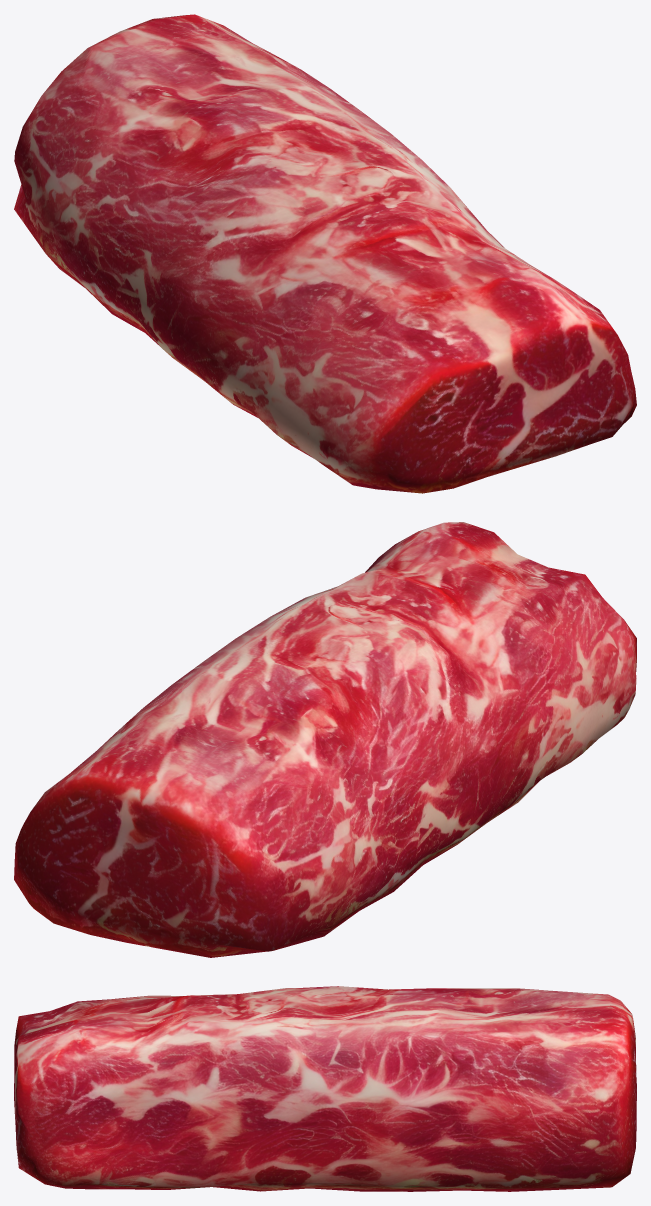
The model's file is vacio.glb.
3 views of the same model, one above another, from view 1: azimuth 30°, elevation 25°; view 2: azimuth 150°, elevation 25°; view 3: azimuth 270°, elevation 25° (orthographic). The views are drawn at different scales.
Parts seen in each view (by area): view 1: Meat_piece; view 2: Meat_piece; view 3: Meat_piece.
Part boxes in pixels (<box>): Meat_piece: <box>14,14,636,493</box>; Meat_piece: <box>14,522,636,957</box>; Meat_piece: <box>14,986,636,1191</box>.
Bounding box in the file's own units: 0.2154 × 0.1283 × 0.4844.
Materials: 1 (1 with a texture image).
